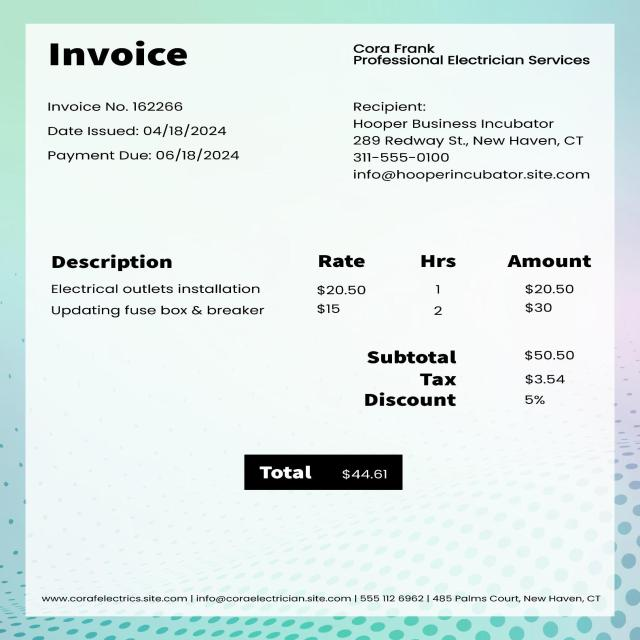paragraph: (340, 100, 611, 190), (348, 340, 590, 416), (28, 94, 258, 166), (28, 590, 609, 614), (340, 34, 601, 75), (240, 452, 403, 493), (38, 35, 197, 71)
table: (29, 246, 605, 319)
